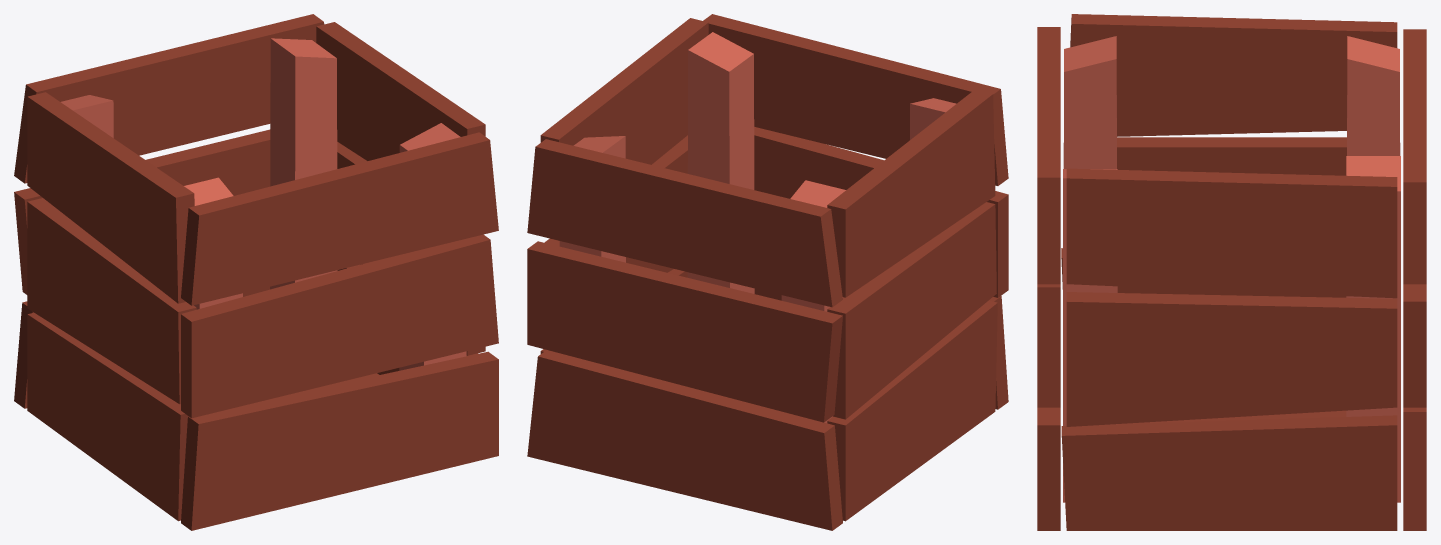
The model's file is Box_2_Red.fbx.
3 views of the same model, side by side, from view 1: azimuth 30°, elevation 25°; view 2: azimuth 150°, elevation 25°; view 3: azimuth 270°, elevation 25° (orthographic). The views are drawn at different scales.
Parts seen in each view (by area): view 1: Box_2_Red_Part_1, Box_2_Red_Part_2; view 2: Box_2_Red_Part_1, Box_2_Red_Part_2; view 3: Box_2_Red_Part_1, Box_2_Red_Part_2.
Boxes of the visible parts, x1,y1,x2,y2 form: Box_2_Red_Part_1: (14, 14, 498, 530); Box_2_Red_Part_2: (61, 38, 466, 370); Box_2_Red_Part_1: (527, 14, 1008, 530); Box_2_Red_Part_2: (559, 32, 956, 423); Box_2_Red_Part_1: (1037, 14, 1426, 530); Box_2_Red_Part_2: (1063, 36, 1400, 502).
Bounding box in the file's own units: 100 × 100 × 100.
